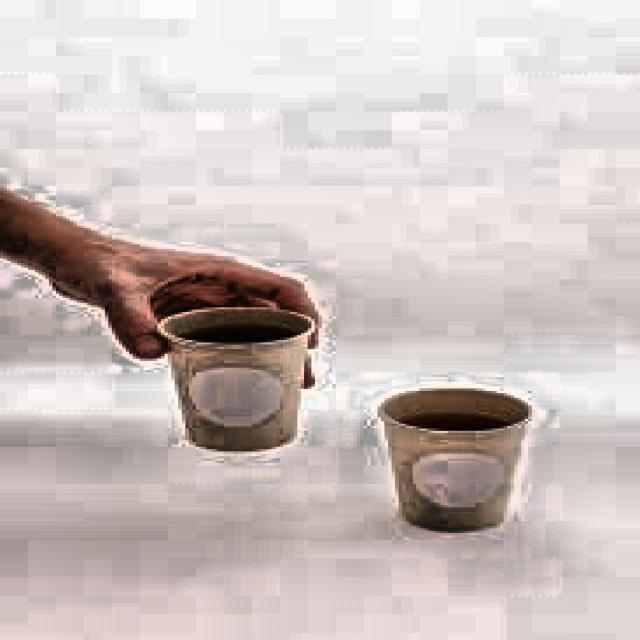Cup: (363, 374, 540, 538), (146, 306, 336, 458)
